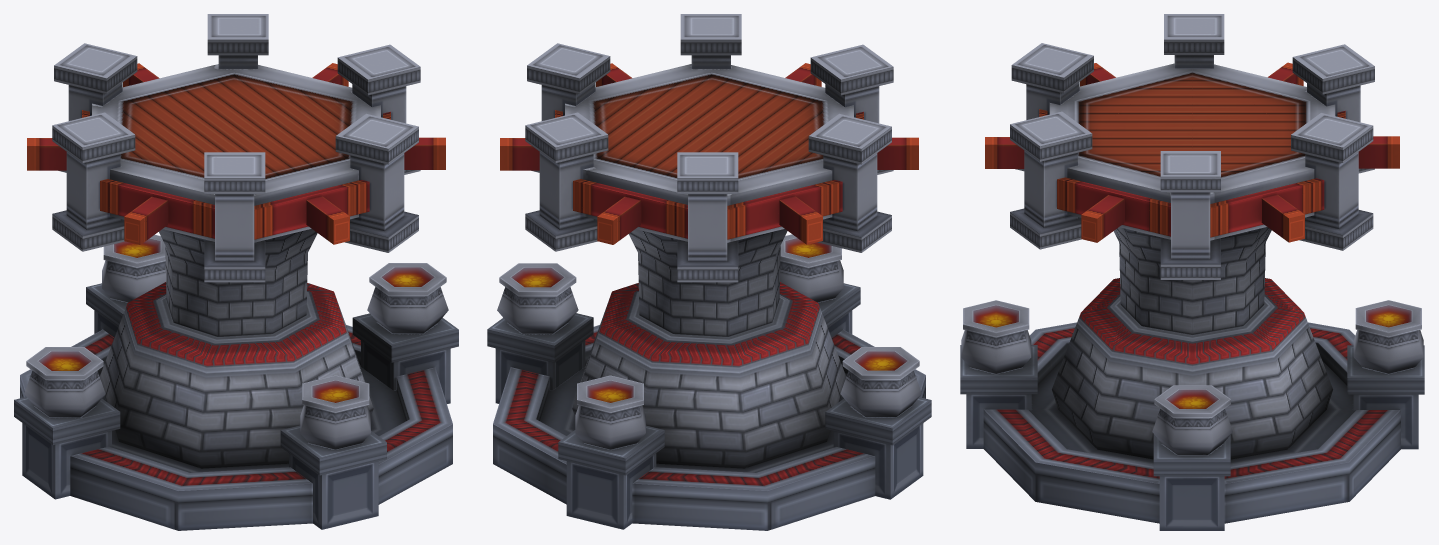
File: CannonTower_Level3.FBX
3 views of the same model, side by side, from view 1: azimuth 30°, elevation 25°; view 2: azimuth 150°, elevation 25°; view 3: azimuth 270°, elevation 25° (orthographic).
Visible parts, largest first — view 1: CannonTower_Level3; view 2: CannonTower_Level3; view 3: CannonTower_Level3.
Boxes of the visible parts, box(x1,y1,x2,y2) form: CannonTower_Level3: box(14, 14, 458, 530); CannonTower_Level3: box(487, 14, 931, 530); CannonTower_Level3: box(960, 14, 1424, 530).
Bounding box in the file's own units: 57.12 × 46.2 × 57.12.
